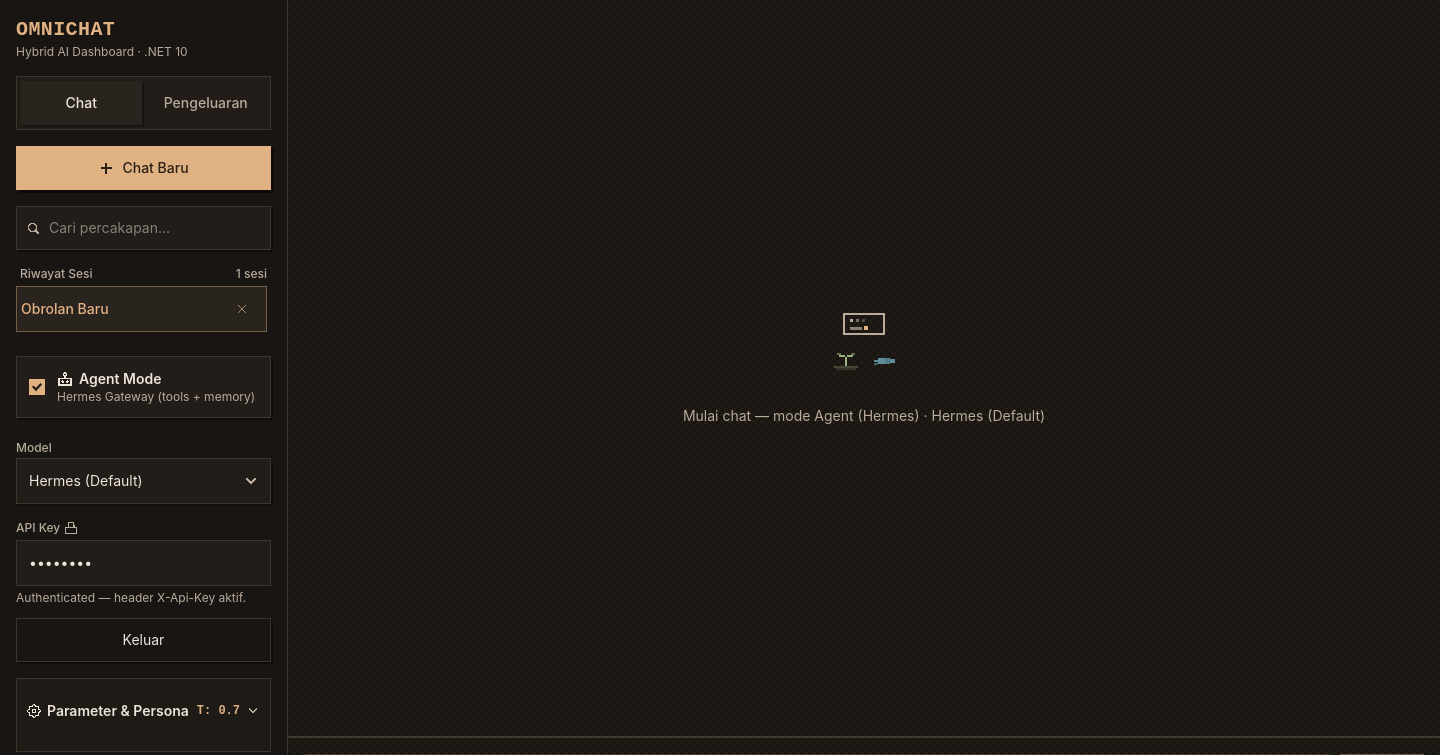
Test case: App › toggles to Direct Mode when checkbox is clicked
Expected: the text "Agent Mode" is shown, [57,370,162,387]
Note: Click the checkbox to toggle
Step 1. Click the checkbox → point(37, 387), box [29,379,45,395]
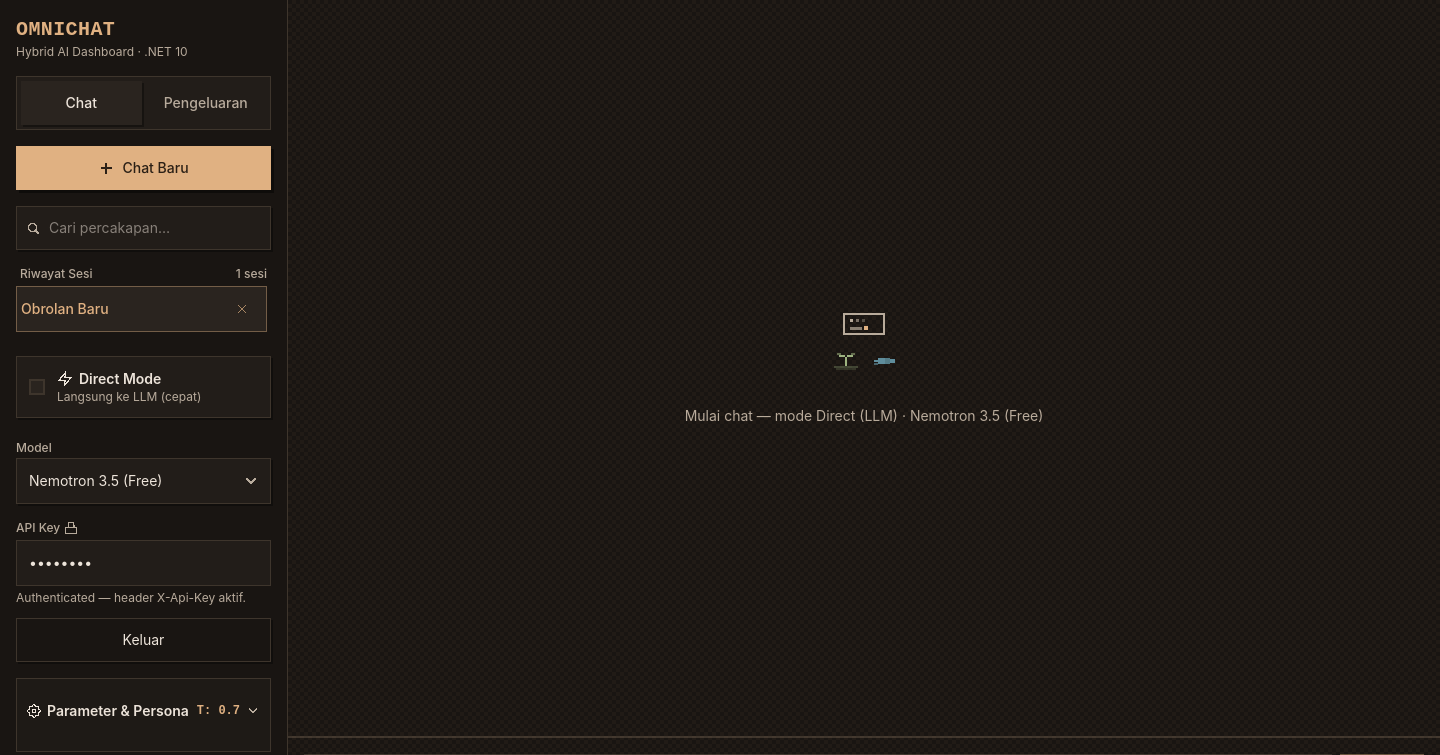
Result: the text "Direct Mode" is shown at [57,370,161,387]
